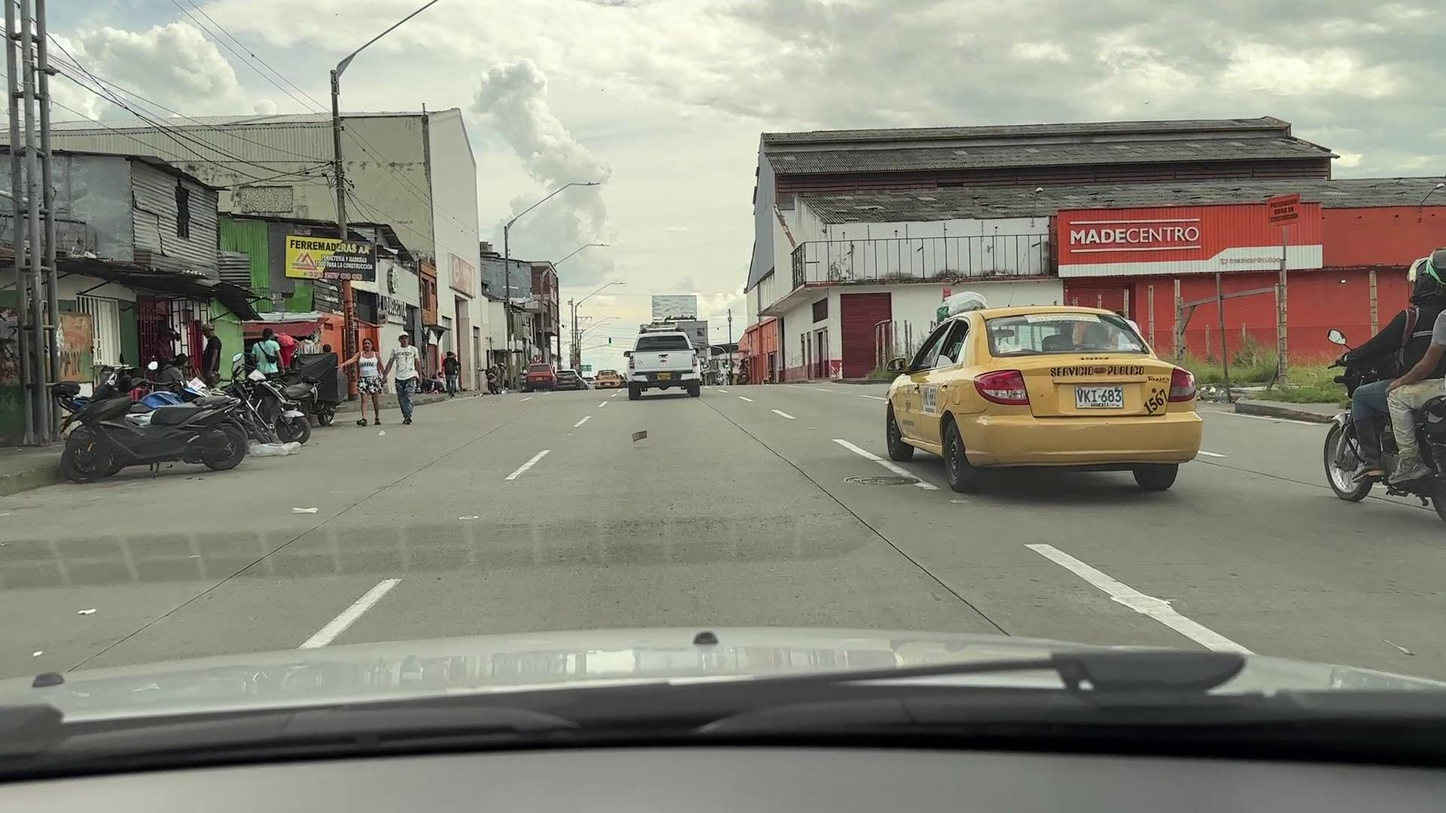registro: (845, 476, 921, 486)
